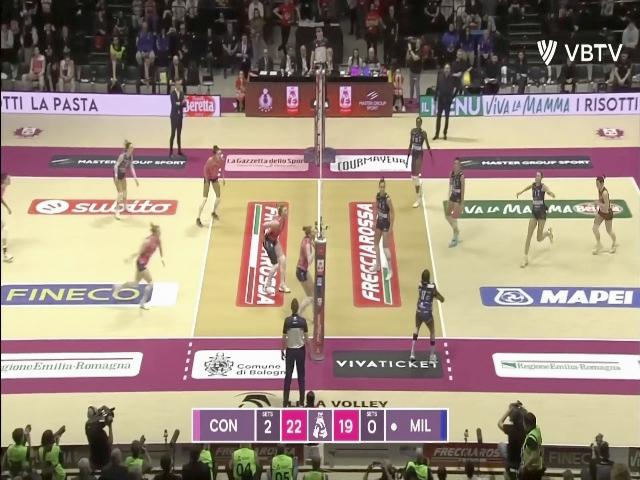volleyball court: (7, 176, 634, 339)
